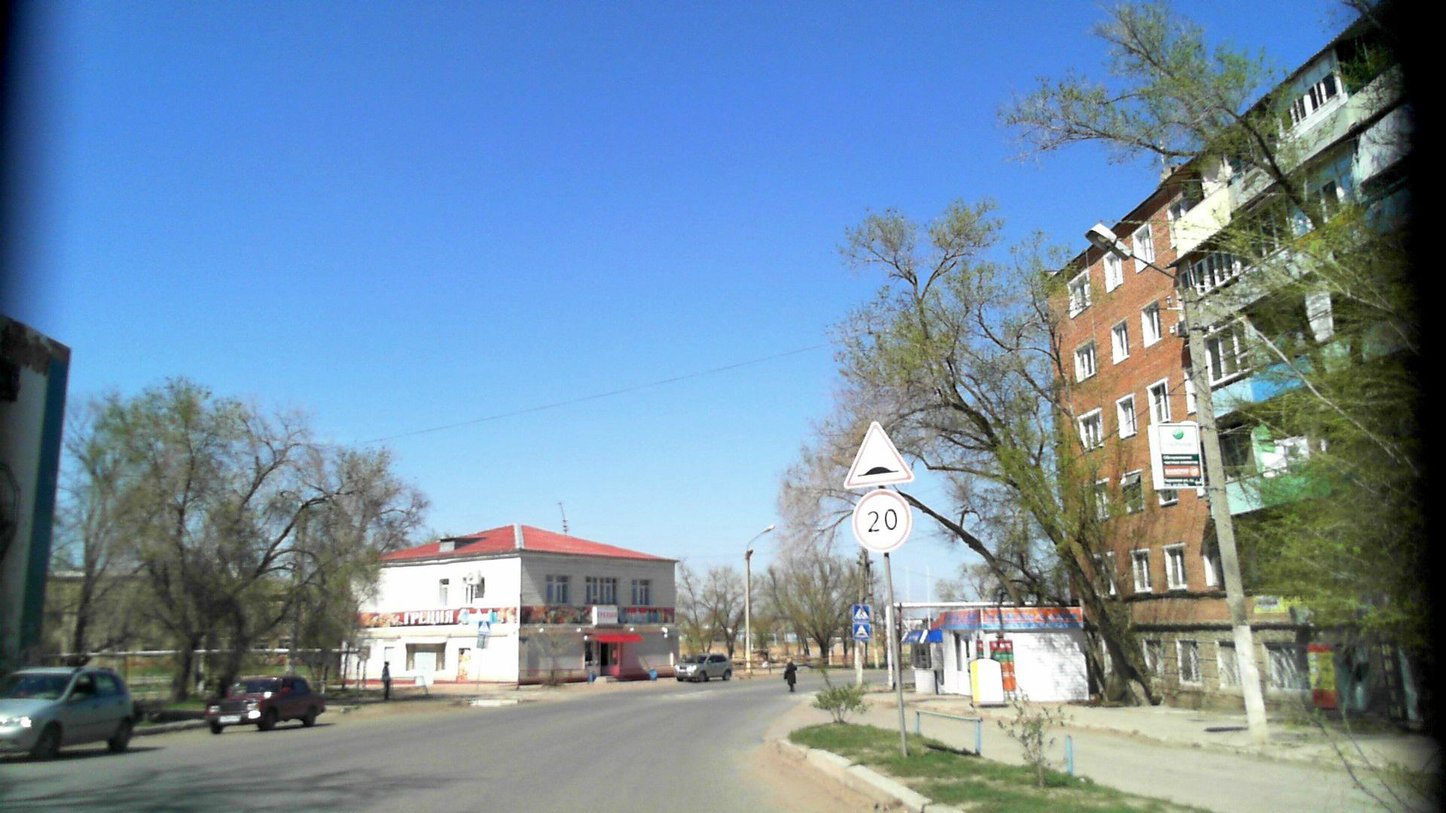road_sign: (844, 422, 914, 489), (852, 489, 911, 553)
